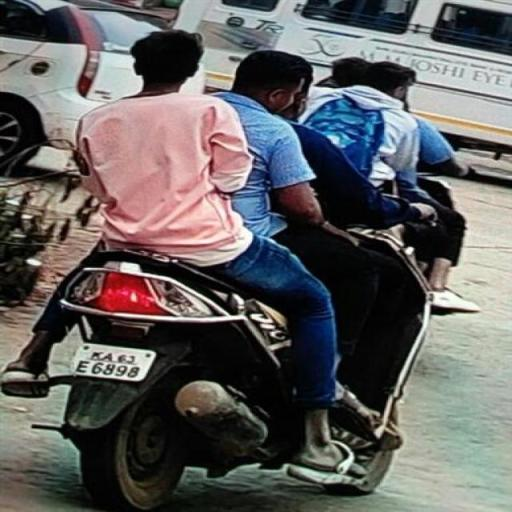tripple riding: (79, 27, 346, 281)
